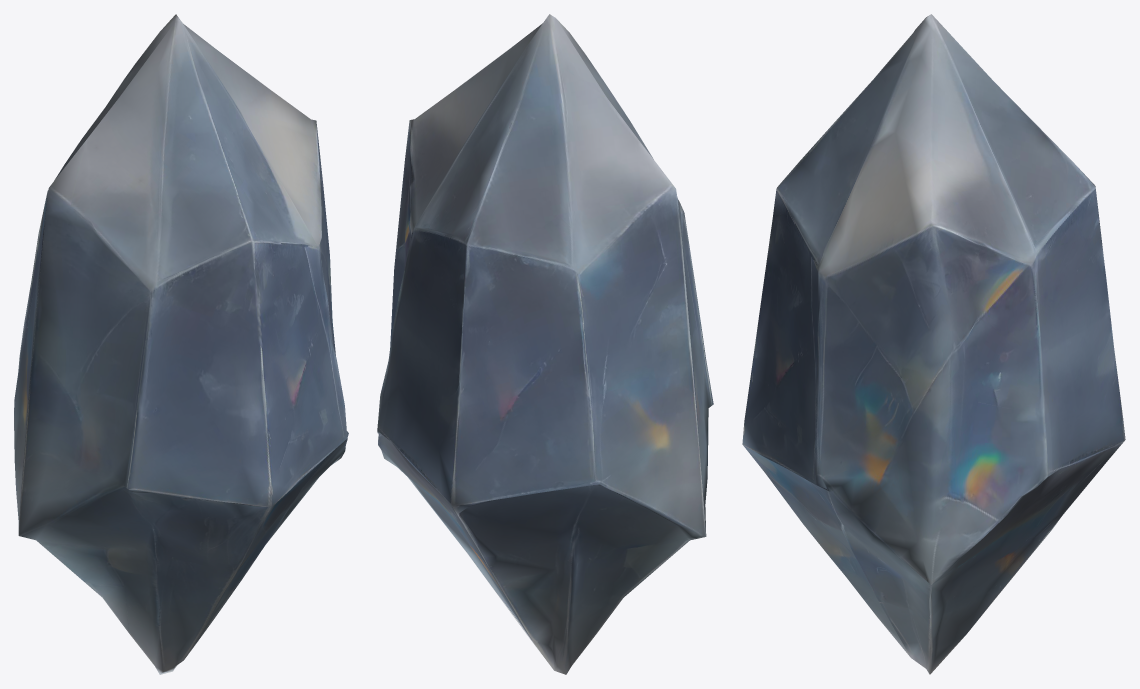
The model's file is crystal+gemstone+3d+model.fbx.
The picture shows the model from 3 angles, left to right: view 1: azimuth 30°, elevation 25°; view 2: azimuth 150°, elevation 25°; view 3: azimuth 270°, elevation 25°; orthographic projection.
Visible parts, largest first — view 1: tripo_node_c9f4e7f3; view 2: tripo_node_c9f4e7f3; view 3: tripo_node_c9f4e7f3.
Part boxes in pixels (x1,y1,x2,y2): tripo_node_c9f4e7f3: (14, 14, 348, 674); tripo_node_c9f4e7f3: (377, 14, 713, 674); tripo_node_c9f4e7f3: (742, 14, 1125, 674).
Size of the model in its own units: 0.5142 by 1 by 0.5243.
Materials: 1 (1 with a texture image).
